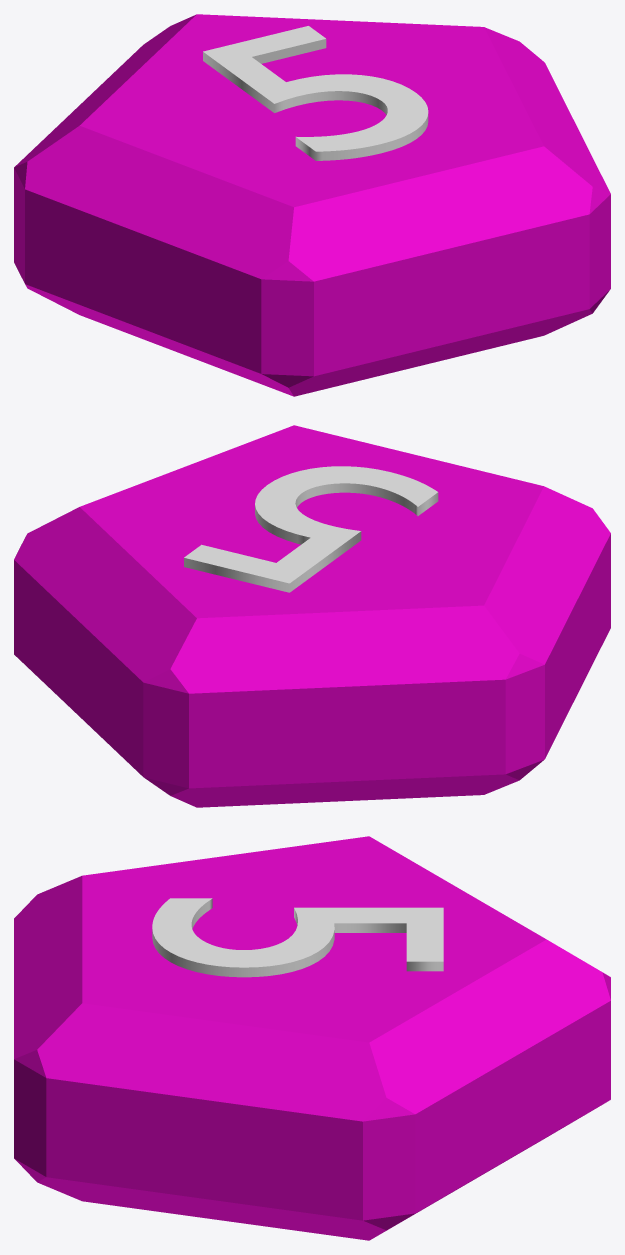
Rendered from 5宝石色.fbx.
3 views of the same model, one above another, from view 1: azimuth 30°, elevation 25°; view 2: azimuth 150°, elevation 25°; view 3: azimuth 270°, elevation 25° (orthographic). The views are drawn at different scales.
Parts seen in each view (by area): view 1: Circle, Text; view 2: Circle, Text; view 3: Circle, Text.
Boxes of the visible parts, x1,y1,x2,y2 form: Circle: (14, 14, 610, 396); Text: (203, 26, 428, 160); Circle: (14, 425, 610, 807); Text: (184, 466, 438, 592); Circle: (14, 836, 610, 1240); Text: (152, 898, 443, 977).
Bounding box in the file's own units: 184 × 69.99 × 175.
